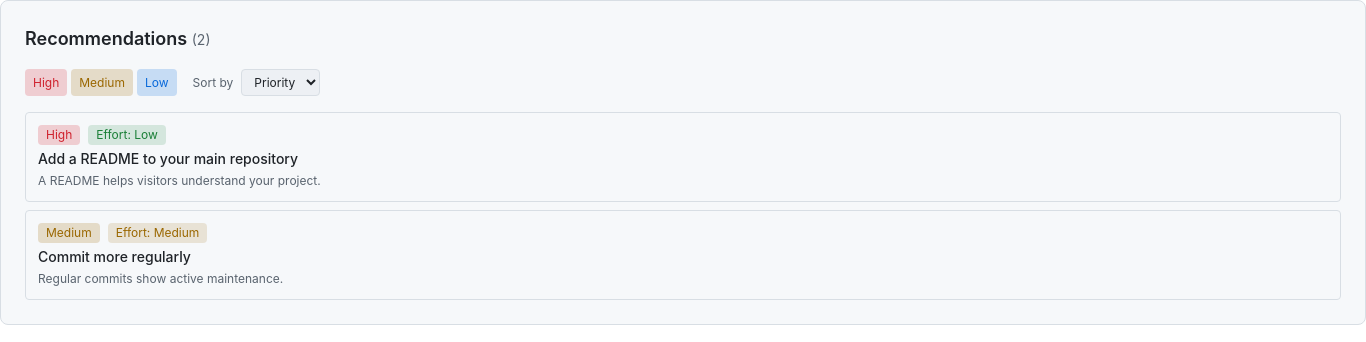
RecommendationsList › filters by priority when toggled off
Click the button "high": (46, 82) [25, 69, 67, 96]
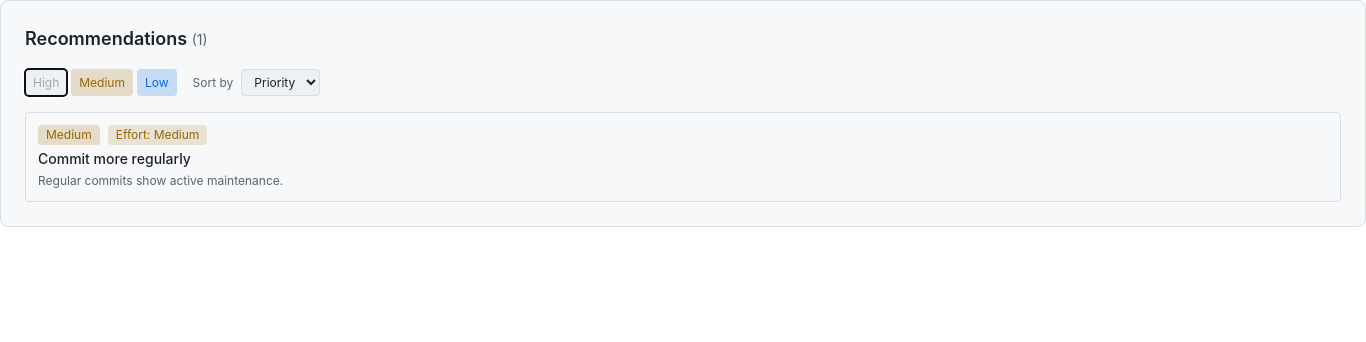
Result: the text "Add a README to your main repository" is gone
Result: the text "(1)" is shown at [192, 31, 208, 48]
